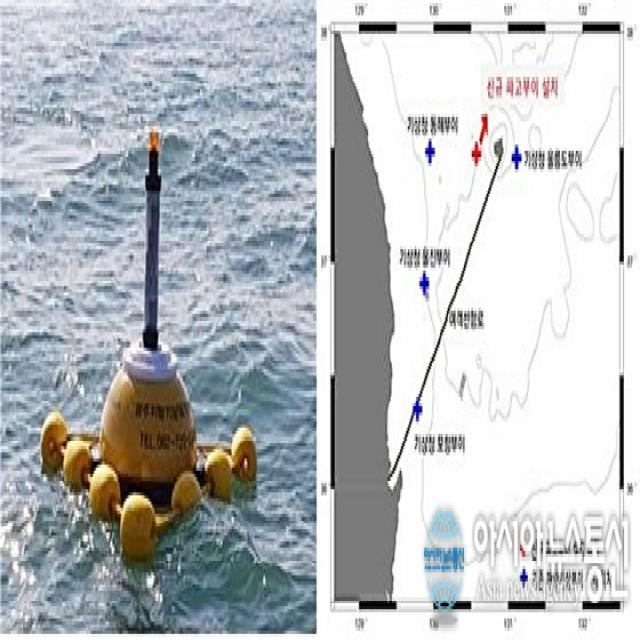2.5 sepcial mark: (32, 85, 266, 569)
